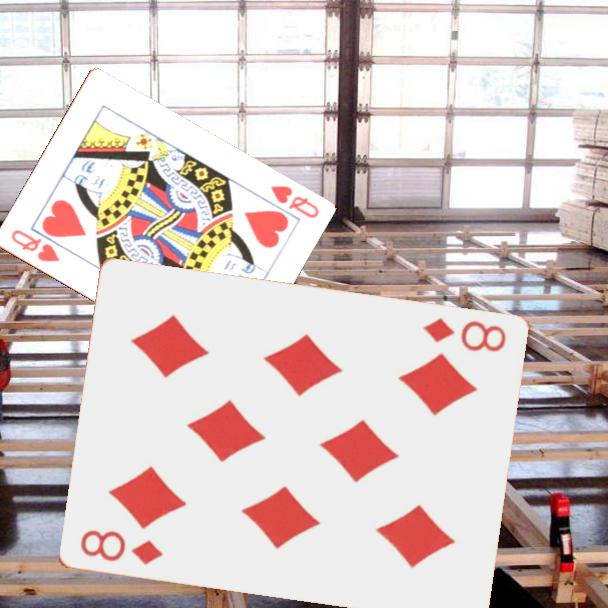d08: (76, 526, 166, 569), (419, 315, 509, 355)
h12: (7, 226, 62, 265), (266, 182, 321, 221)
